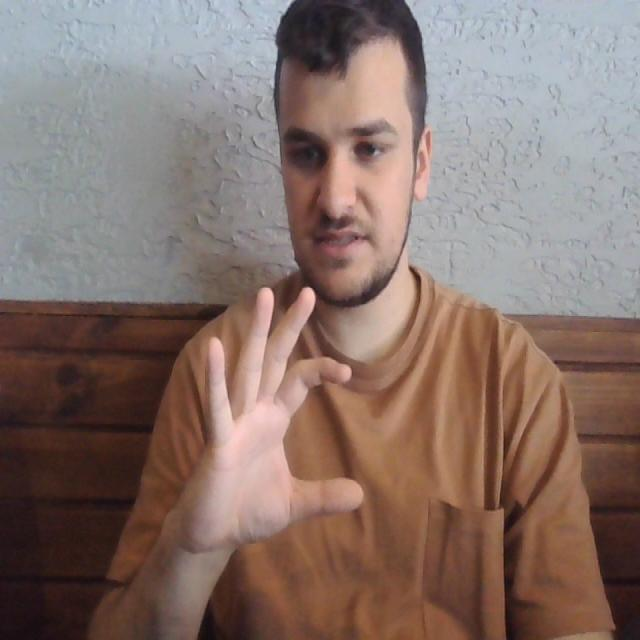Tuvalet: (156, 274, 370, 562)
